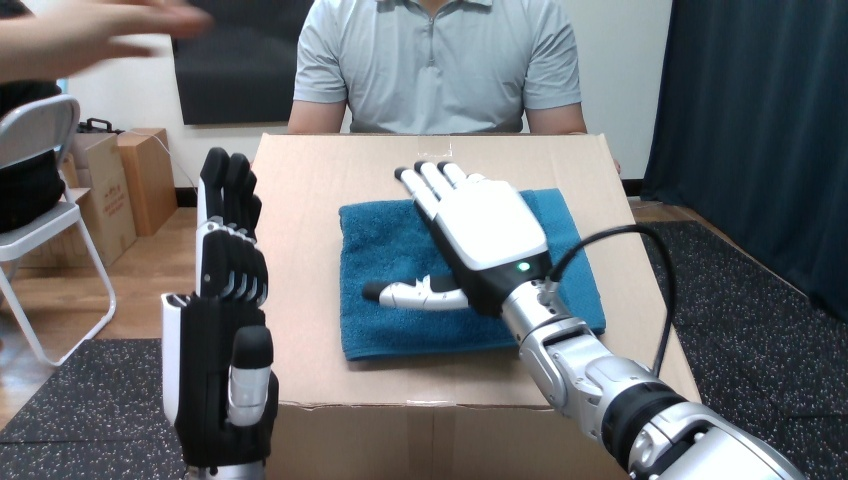left robot hand: (363, 160, 804, 479), (162, 148, 277, 478), (557, 232, 668, 369)
